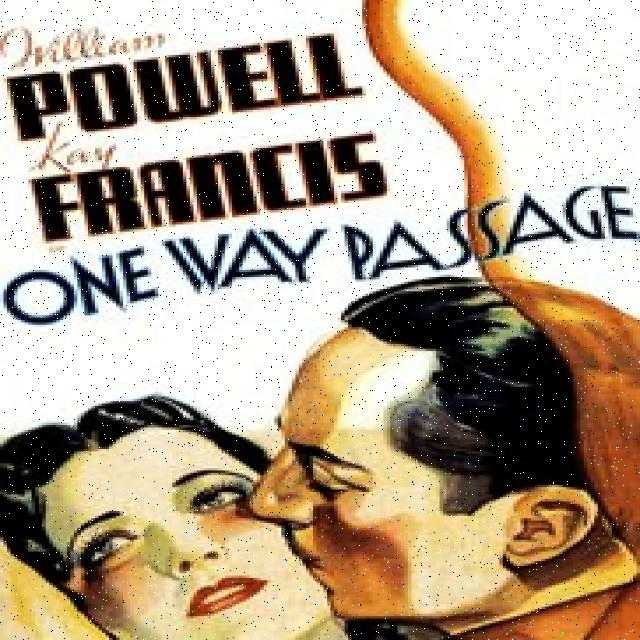movie-judul: (8, 186, 640, 327)
picture: (0, 282, 640, 640)
